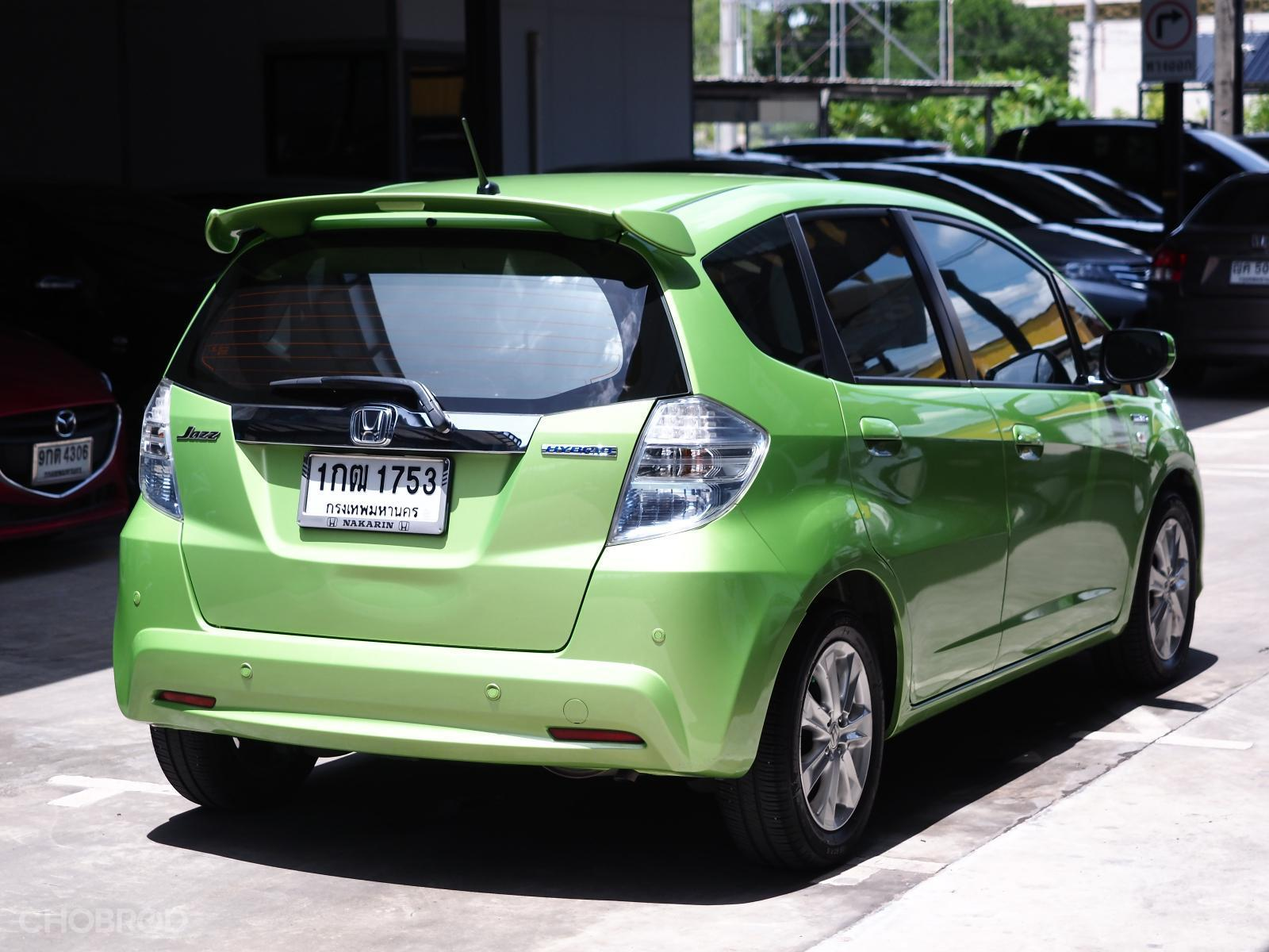license-plate: (293, 435, 459, 546)
